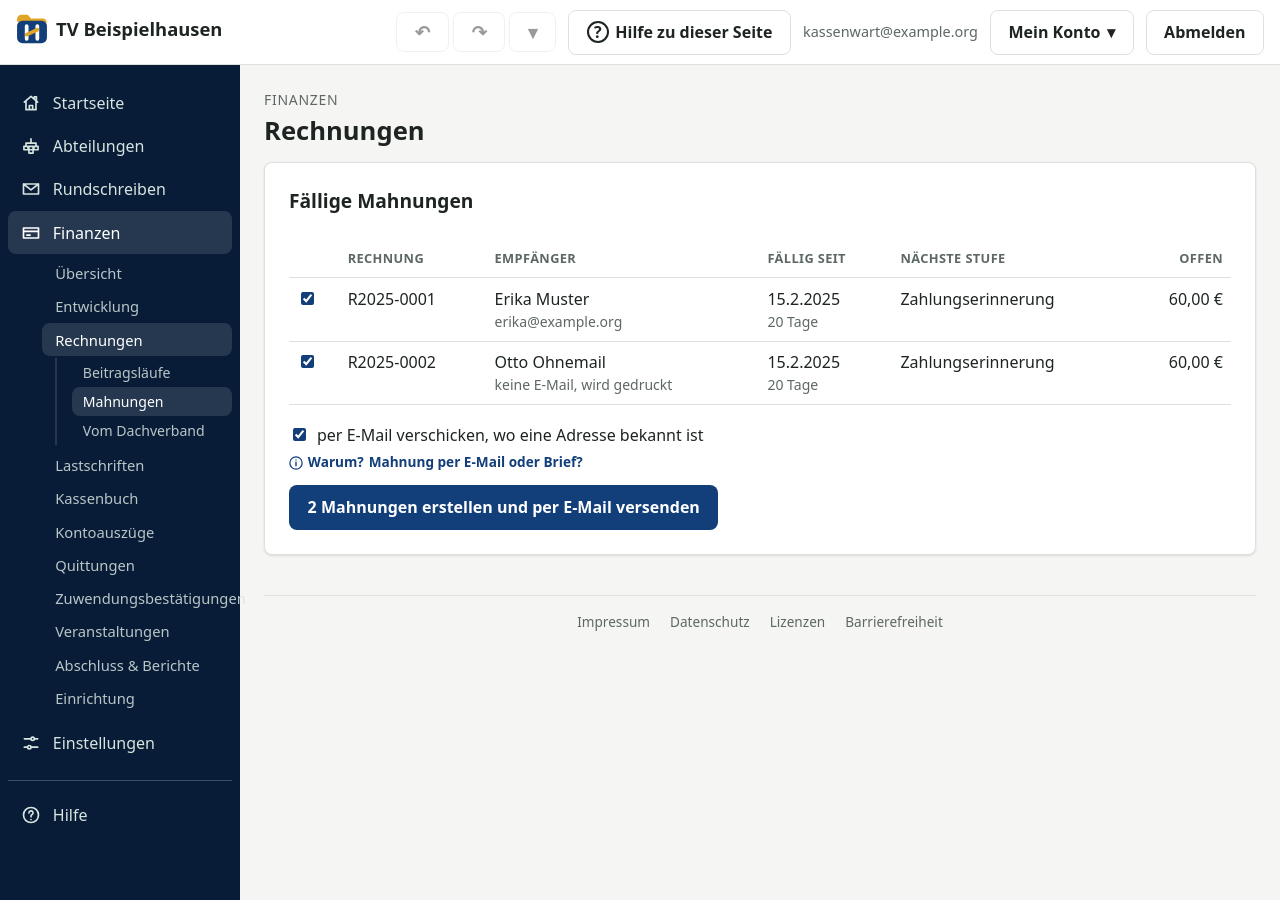
Beiträge › erstellt fällige Mahnungen und bietet nicht verschickte zum Drucken an
Expected: the text "Otto Ohnemail" is shown, [495,351,606,373]
Step 1. Click the button "2 Mahnungen erstellen und per E-Mail versenden" → (504, 507), box [289,485,718,530]
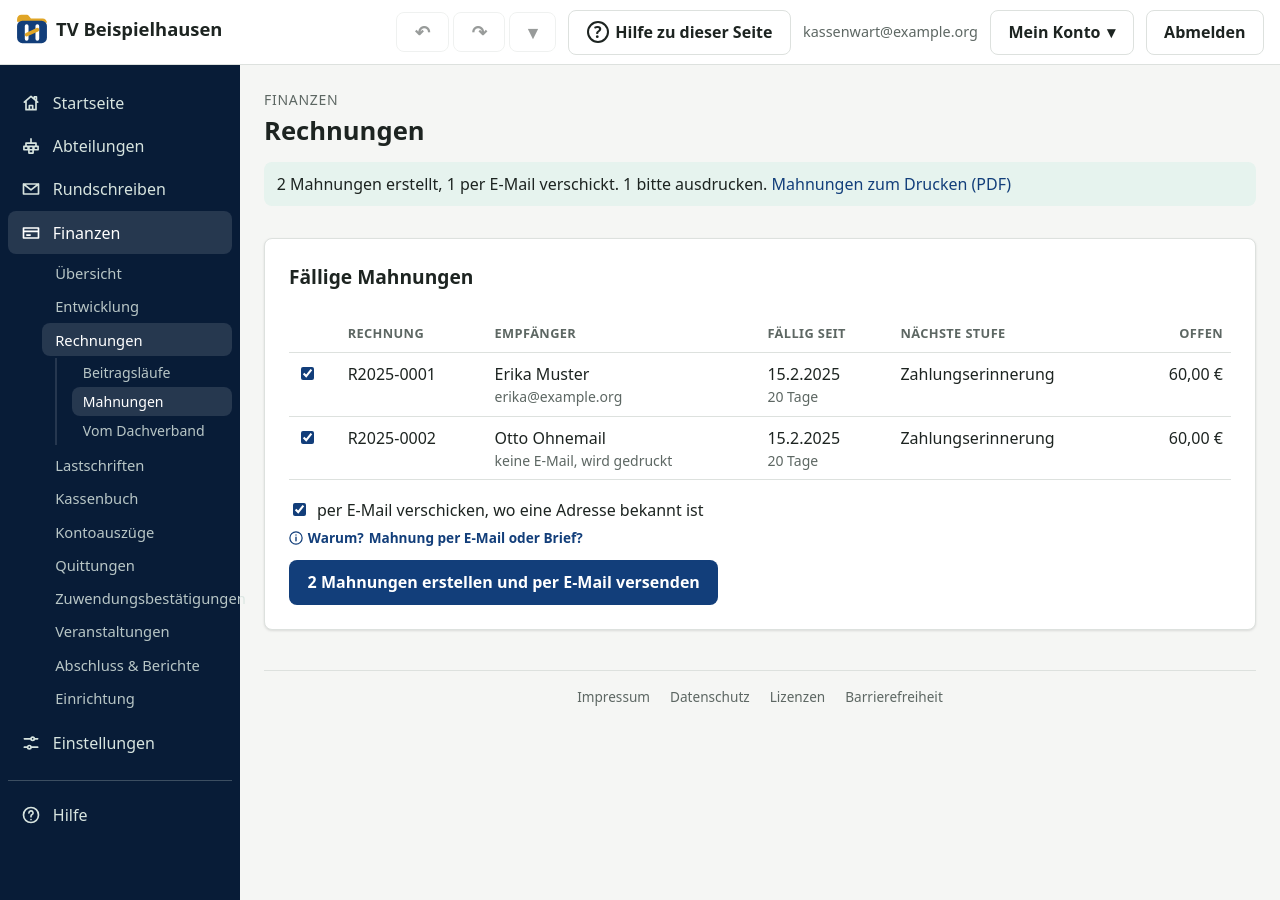
Result: the text "2 Mahnungen erstellt, 1 per E-Mail verschickt" is shown at [277,173,767,195]
